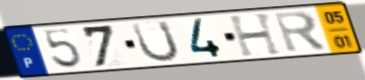4: (188, 17, 225, 61)
5: (41, 27, 85, 70)
7: (81, 23, 118, 69)
H: (226, 11, 285, 58)
R: (272, 10, 331, 55)
U: (129, 19, 182, 64)
